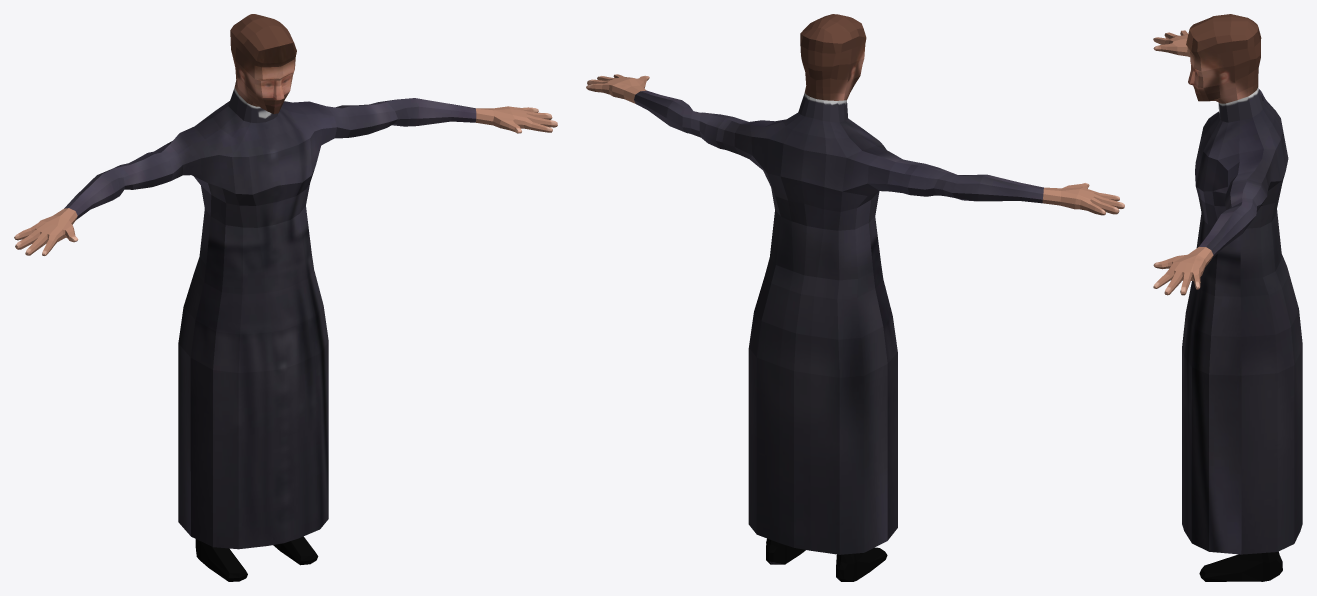
File: churcherxd.obj
The picture shows the model from 3 angles, left to right: view 1: azimuth 30°, elevation 25°; view 2: azimuth 150°, elevation 25°; view 3: azimuth 270°, elevation 25°; orthographic projection.
Parts seen in each view (by area): view 1: CharacterModel_001, Object002; view 2: CharacterModel_001, Object002; view 3: CharacterModel_001, Object002.
Boxes of the visible parts, bbox=[...] form: CharacterModel_001: bbox=[14, 14, 557, 549]; Object002: bbox=[195, 536, 318, 581]; CharacterModel_001: bbox=[586, 14, 1124, 554]; Object002: bbox=[766, 538, 887, 581]; CharacterModel_001: bbox=[1153, 14, 1302, 554]; Object002: bbox=[1199, 551, 1282, 581].
Size of the model in its own units: 70.25 by 68.08 by 16.98.
